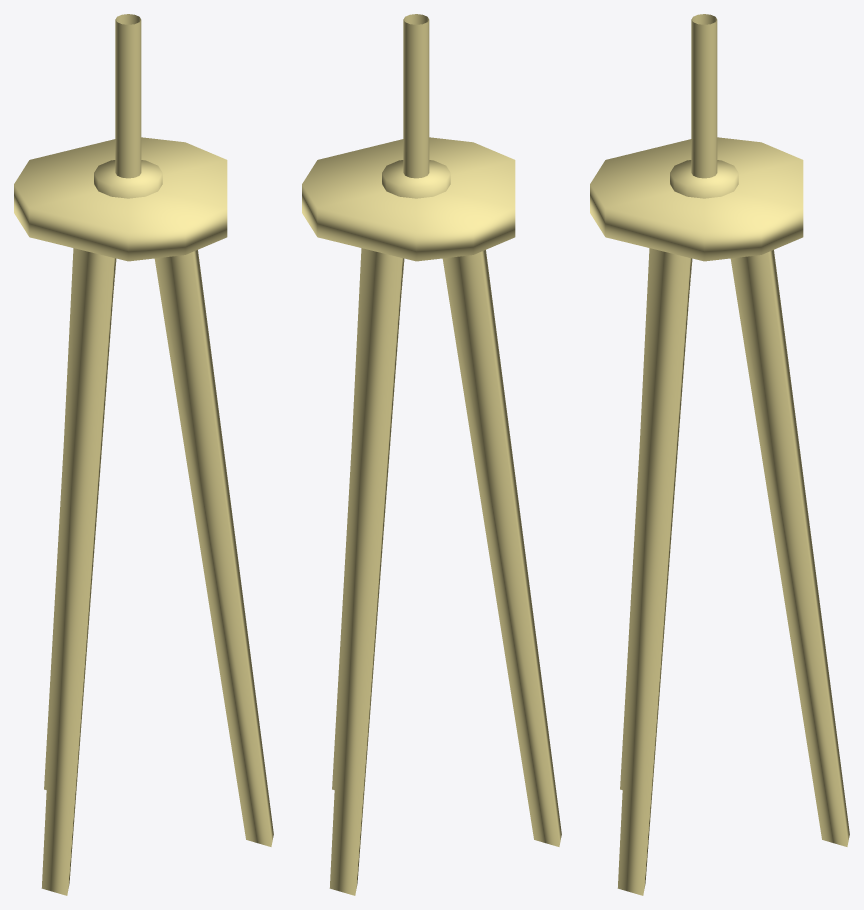
The model's file is camera stand.fbx.
The picture shows the model from 3 angles, left to right: view 1: azimuth 30°, elevation 25°; view 2: azimuth 150°, elevation 25°; view 3: azimuth 270°, elevation 25°; orthographic projection.
Visible parts, largest first — view 1: pCylinder57, pCylinder43, pCylinder42, pCylinder31, pCylinder32, pCylinder56; view 2: pCylinder56, pCylinder57, pCylinder42, pCylinder31, pCylinder32, pCylinder43; view 3: pCylinder43, pCylinder56, pCylinder42, pCylinder31, pCylinder32, pCylinder57.
Boxes of the visible parts, x1,y1,x2,y2 form: pCylinder57: (41, 248, 115, 895); pCylinder43: (154, 250, 273, 846); pCylinder42: (14, 137, 227, 261); pCylinder31: (115, 14, 141, 178); pCylinder32: (94, 160, 162, 198); pCylinder56: (44, 259, 116, 789); pCylinder56: (329, 248, 403, 895); pCylinder57: (442, 250, 561, 846); pCylinder42: (302, 137, 515, 261); pCylinder31: (403, 14, 429, 178); pCylinder32: (382, 160, 450, 198); pCylinder43: (332, 259, 404, 789); pCylinder43: (617, 248, 691, 895); pCylinder56: (730, 250, 849, 846); pCylinder42: (590, 137, 803, 261); pCylinder31: (691, 14, 717, 178); pCylinder32: (670, 160, 738, 198); pCylinder57: (620, 259, 692, 789).
Bounding box in the file's own units: 39.15 × 134 × 38.33.
